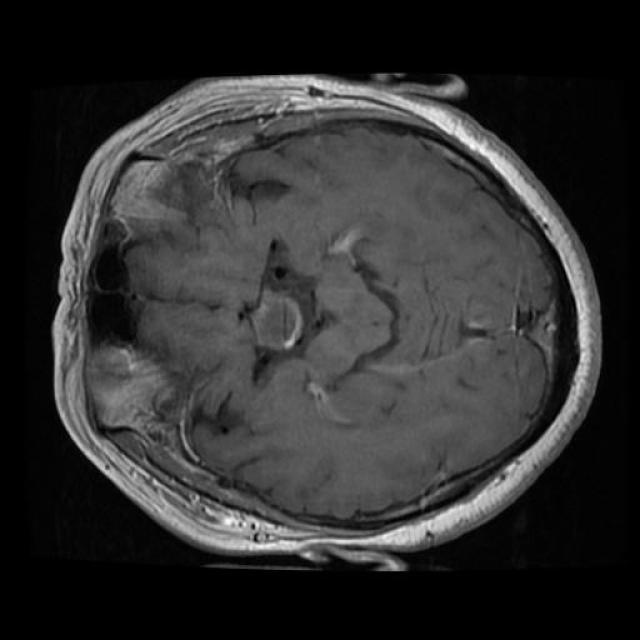Pituitary: (249, 287, 302, 350)
